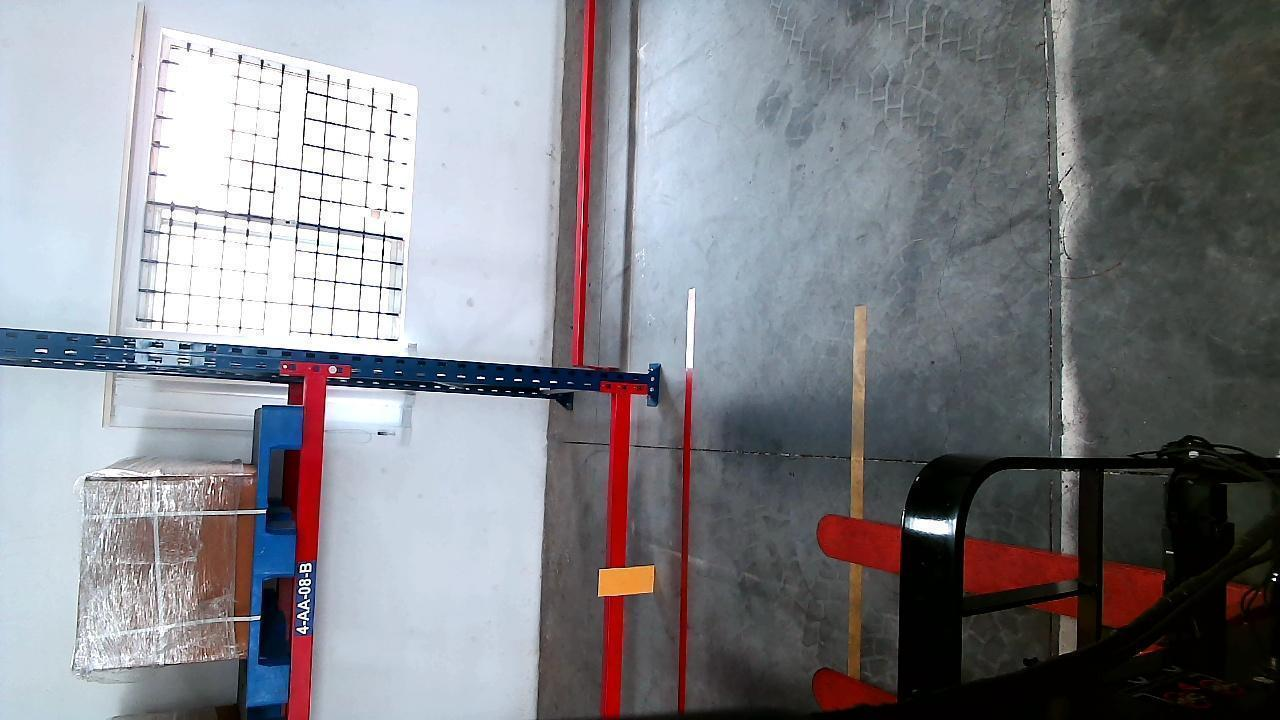red_line: (672, 311, 698, 709)
yellow_line: (841, 298, 869, 695), (848, 304, 866, 517)
